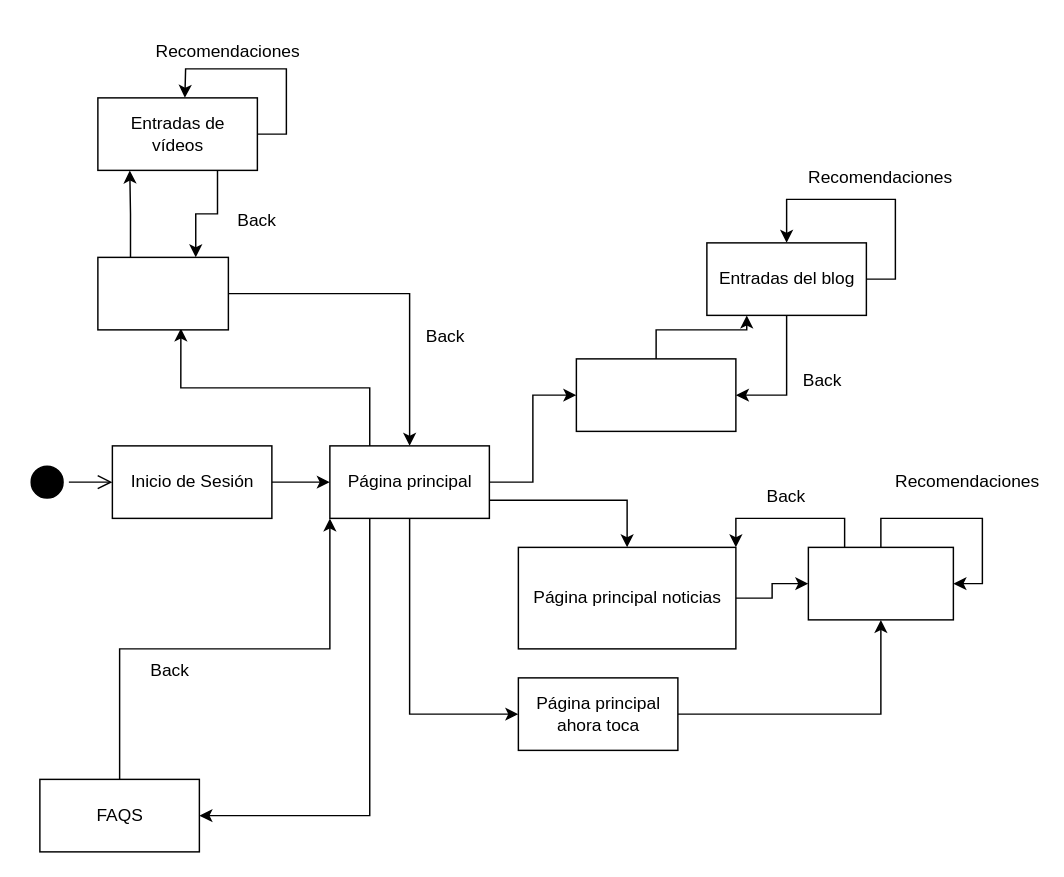
Image size: 1064x877. Some labels were removed from this diagram. The centre of each missing label's shape, as x and y in pixels:
"Entradas noticias" goes at [880,583].
"Página principal blog" goes at [655,394].
"Página principal de vídeos" goes at [162,293].
